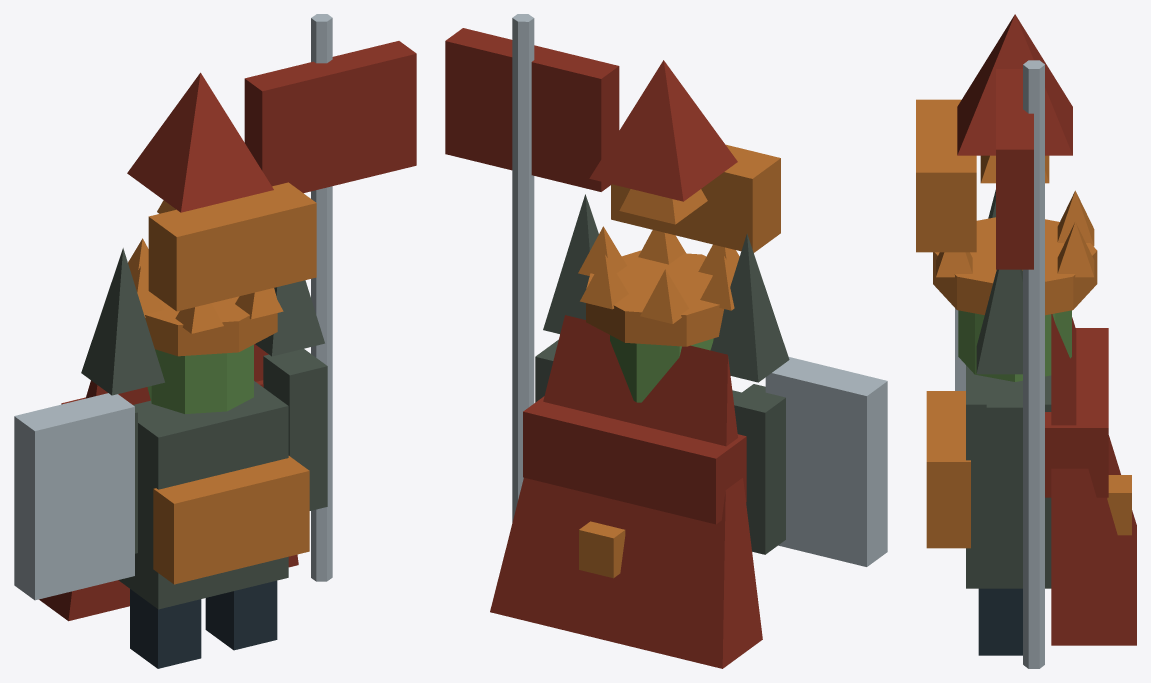
File: hero.obj
3 views of the same model, side by side, from view 1: azimuth 30°, elevation 25°; view 2: azimuth 150°, elevation 25°; view 3: azimuth 270°, elevation 25° (orthographic). The views are drawn at different scales.
Visible parts, largest first — view 1: hero; view 2: hero; view 3: hero.
Part boxes in pixels (<box>): hero: <box>14,14,416,668</box>; hero: <box>445,14,887,668</box>; hero: <box>916,14,1136,668</box>.
Size of the model in its own units: 1.81 by 2.52 by 0.8028.
